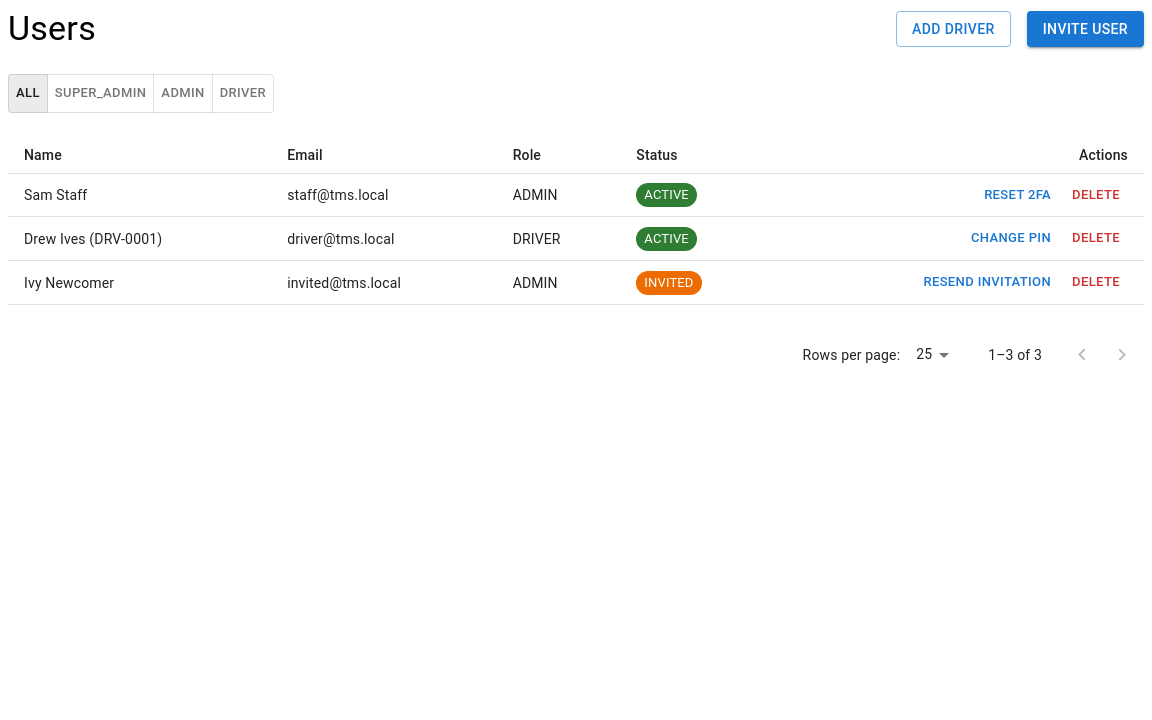
Test: UsersPage › asks for confirmation before deleting
Click the button "Delete" in the row of "Sam" at (1096,195), box [1064,180,1128,210]
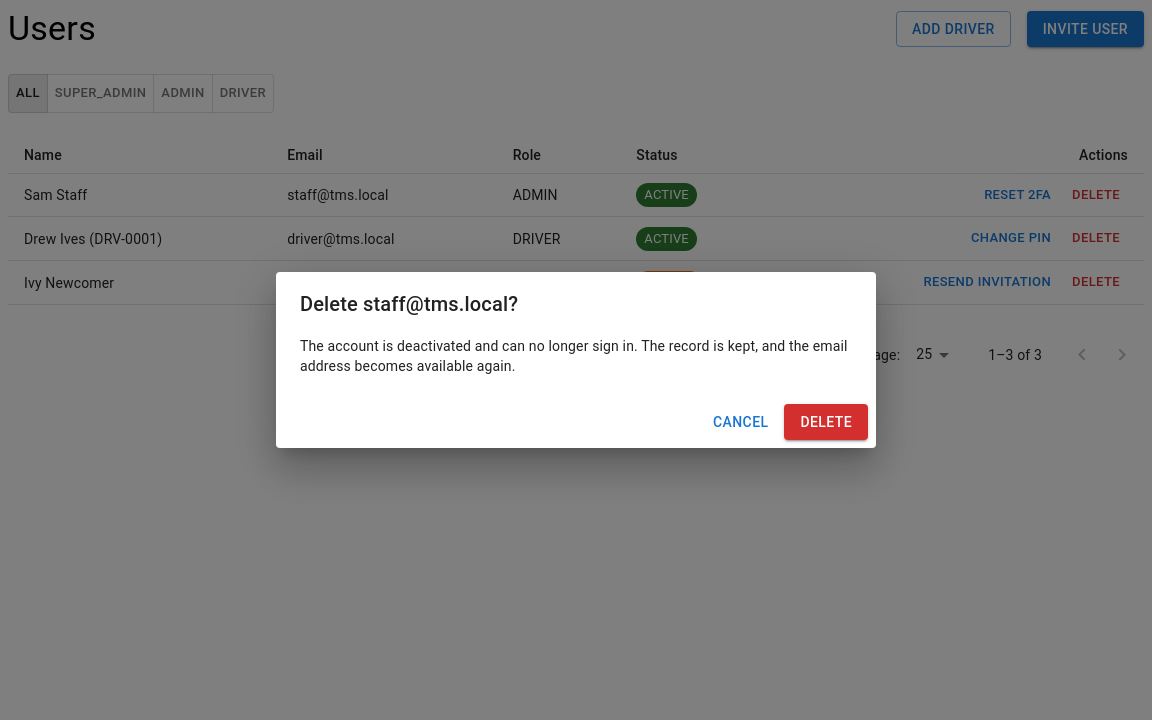
Expected: the dialog shows "staff@tms.local", [363,292,508,316]
